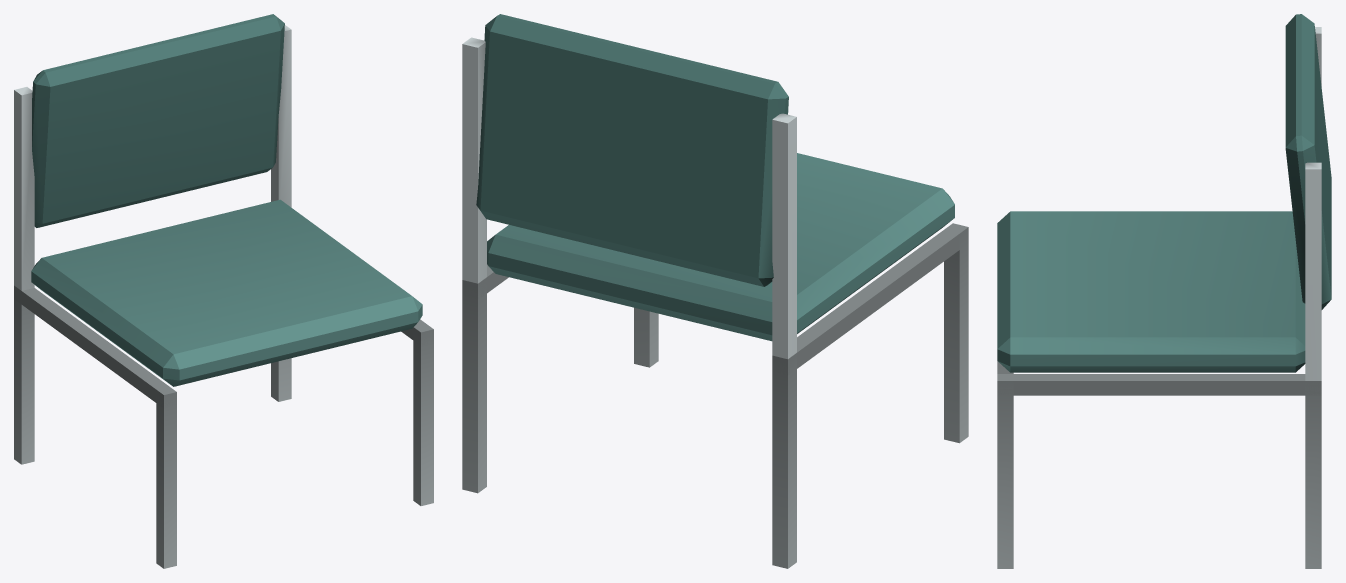
The model's file is waiting_chair.glb.
3 views of the same model, side by side, from view 1: azimuth 30°, elevation 25°; view 2: azimuth 150°, elevation 25°; view 3: azimuth 270°, elevation 25° (orthographic). The views are drawn at different scales.
Parts seen in each view (by area): view 1: seat, back, frame; view 2: back, frame, seat; view 3: seat, frame, back.
Boxes of the visible parts, x1,y1,x2,y2 form: seat: [31, 199, 422, 386]; back: [32, 14, 284, 227]; frame: [14, 25, 433, 568]; back: [476, 14, 788, 286]; frame: [462, 37, 968, 568]; seat: [487, 153, 954, 341]; seat: [997, 211, 1305, 372]; frame: [997, 27, 1321, 568]; back: [1285, 14, 1331, 309].
Size of the model in its own units: 0.52 by 0.7197 by 0.5156.
